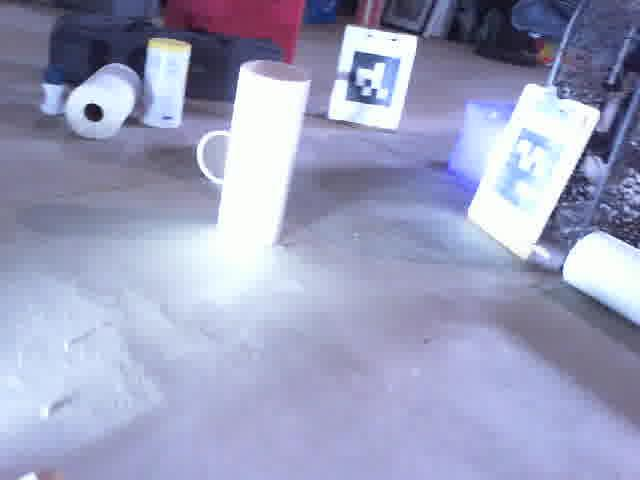coral: (218, 59, 311, 247), (66, 63, 143, 138), (195, 130, 231, 188)
